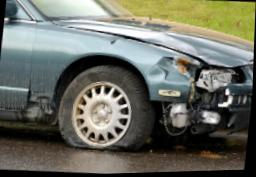Bumper: (150, 83, 253, 137)
Fender: (97, 34, 204, 104)
Light: (193, 63, 249, 82)
